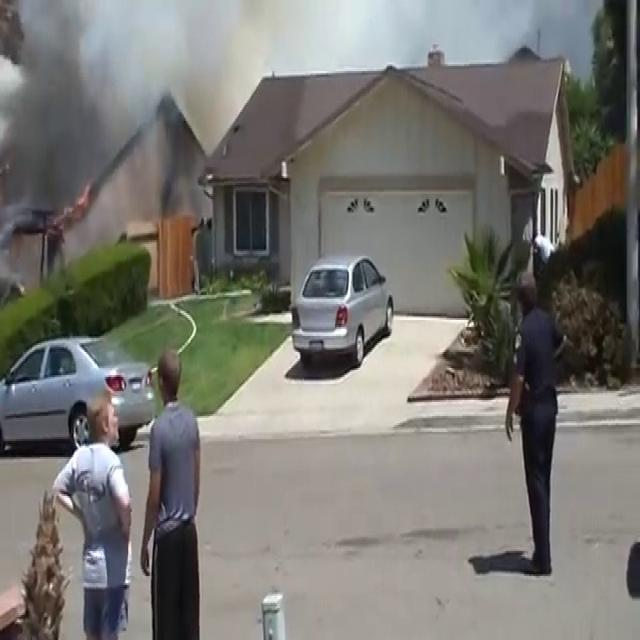Smoke: (0, 0, 257, 212)
